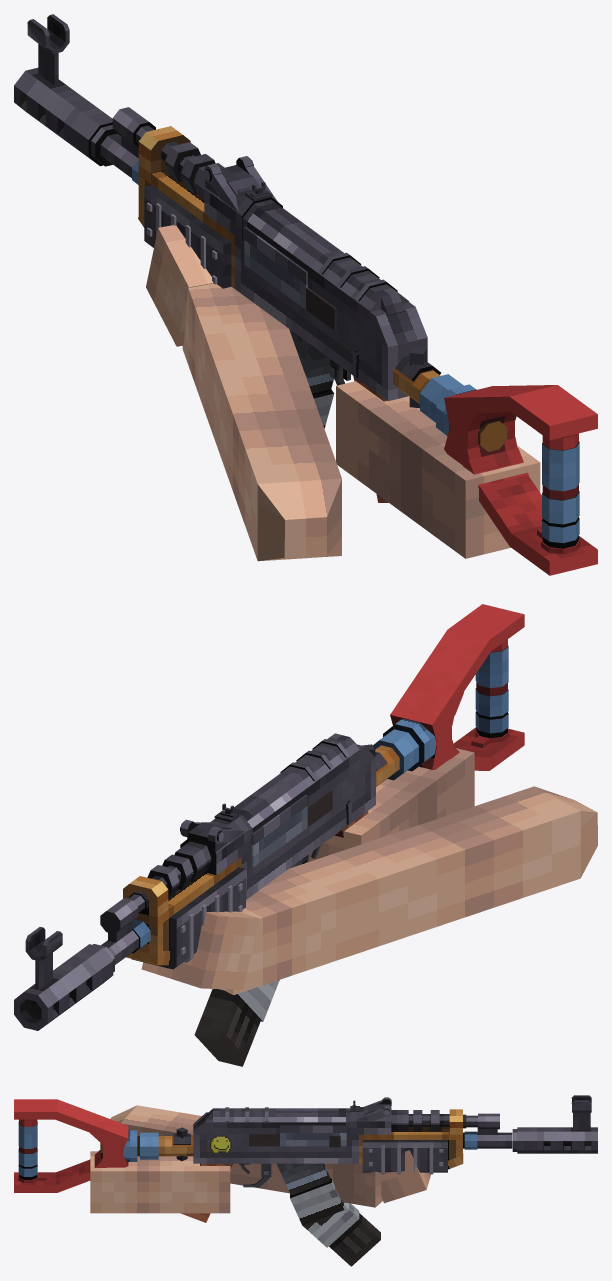
The model's file is assault_rifle.glb.
3 renders of one model, top to bottom at view 1: azimuth 30°, elevation 25°; view 2: azimuth 150°, elevation 25°; view 3: azimuth 270°, elevation 25°, orthographic. The views are drawn at different scales.
Parts seen in each view (by area): view 1: scope, hand_l, stock, hand_r, barrel, part_mag, ironsight; view 2: hand_l, scope, stock, hand_r, barrel, part_mag, ironsight; view 3: scope, stock, hand_r, hand_l, part_mag, barrel, ironsight, grip.
Part boxes in pixels (box(x1,y1,x2,y2)): scope: box(112, 107, 427, 401); hand_l: box(146, 225, 341, 561); stock: box(393, 347, 597, 575); hand_r: box(336, 381, 540, 558); barrel: box(14, 67, 138, 184); part_mag: box(289, 329, 334, 428); ironsight: box(27, 14, 69, 85); hand_l: box(141, 786, 597, 995); scope: box(100, 733, 375, 969); stock: box(362, 604, 524, 786); hand_r: box(308, 748, 474, 861); barrel: box(14, 919, 150, 1030); part_mag: box(194, 859, 302, 1066); ironsight: box(25, 927, 62, 989); scope: box(193, 1097, 499, 1187); stock: box(14, 1099, 193, 1192); hand_r: box(90, 1151, 230, 1213); hand_l: box(110, 1105, 430, 1207); part_mag: box(277, 1163, 380, 1266); barrel: box(463, 1127, 597, 1153); ironsight: box(571, 1095, 591, 1129); grip: box(181, 1163, 232, 1222).
Size of the model in its own units: 0.3169 by 0.3862 by 1.24.
3 materials, 3 textured.
